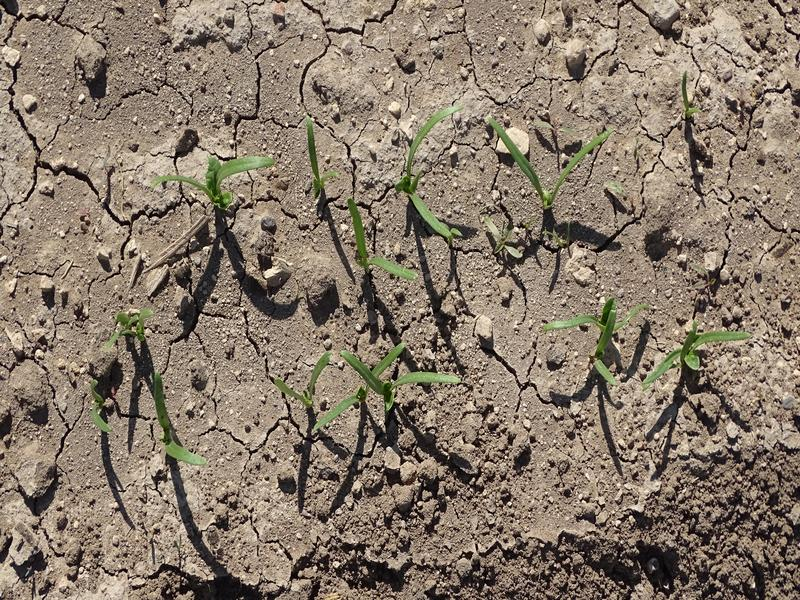Espinaca: (557, 291, 752, 389), (273, 340, 461, 429), (486, 109, 611, 215), (401, 106, 461, 239), (143, 151, 278, 208), (343, 193, 424, 288), (136, 375, 205, 470), (98, 297, 159, 355), (302, 116, 340, 184), (87, 380, 116, 434), (678, 73, 701, 115)
